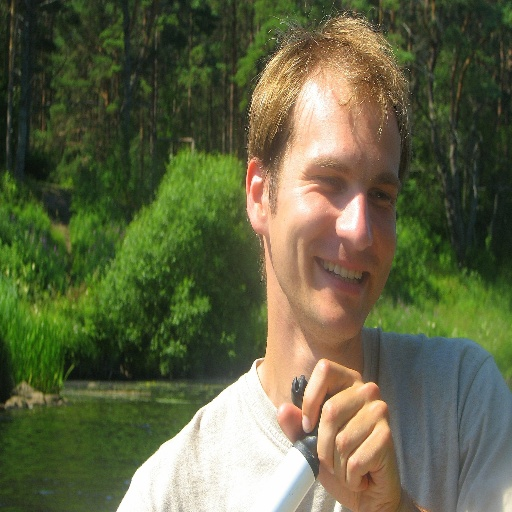hand: (296, 358, 376, 509)
